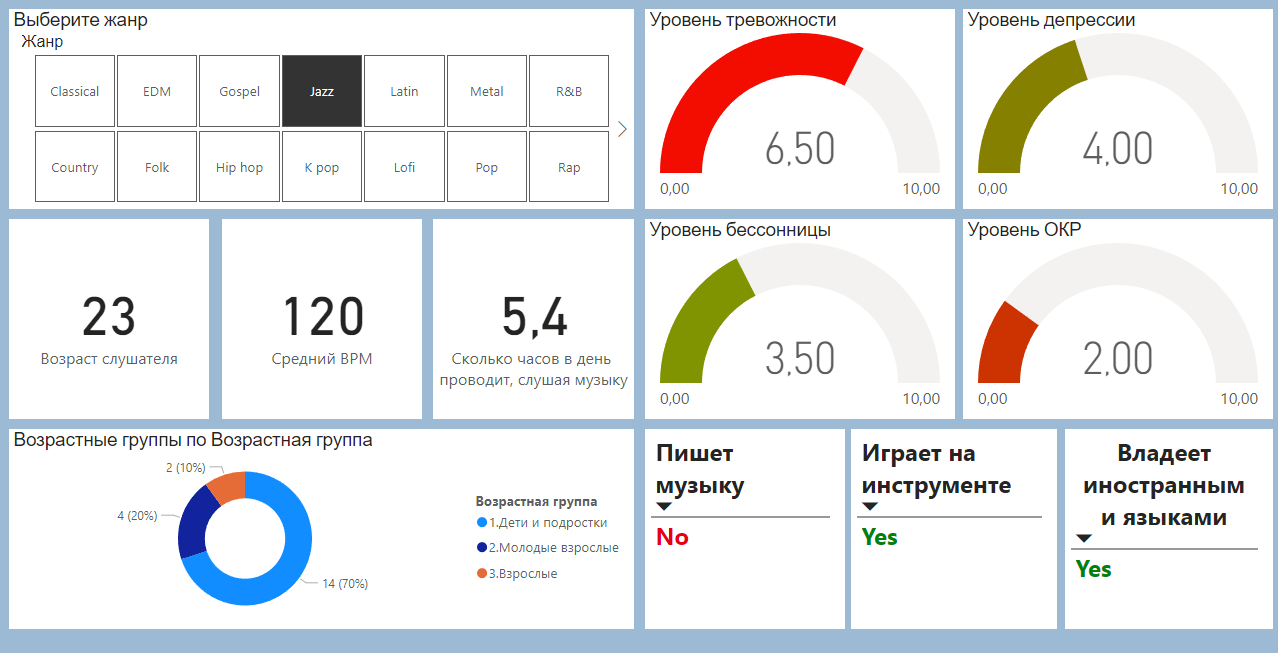

This screenshot's page, from the dashboard's own definition file:
{"tool":"powerbi","page":{"name":"Страница 4","canvas":[1280,720],"ordinal":1},"visuals":[{"type":"slicer","fields":{"Values":["mxmh_survey_results.Fav genre"]},"box":[0,1,640.5,179.8],"z":0},{"type":"gauge","fields":{"Y":["Avg(mxmh_survey_results.Depression)"]},"box":[960,0,320,180],"z":1000},{"type":"gauge","fields":{"Y":["Avg(mxmh_survey_results.Anxiety)"]},"box":[640,0,320,180],"z":2000},{"type":"gauge","fields":{"Y":["Avg(mxmh_survey_results.OCD)"]},"box":[960,181.2,320,180],"z":3000},{"type":"gauge","fields":{"Y":["Avg(mxmh_survey_results.Insomnia)"]},"box":[640,181.2,320,180],"z":4000},{"type":"card","fields":{"Values":["Avg(mxmh_survey_results.Age)"]},"box":[0,181.2,320,178.8],"z":5000},{"type":"tableEx","fields":{"Values":["mxmh_survey_results.Instrumentalist"]},"box":[639.5,360.6,209.9,180.8],"z":6000},{"type":"tableEx","fields":{"Values":["mxmh_survey_results.Composer"]},"box":[850.4,360.6,189.5,180.8],"z":7000},{"type":"tableEx","fields":{"Values":["mxmh_survey_results.Foreign languages"]},"box":[1039.9,360.6,240.1,180.8],"z":8000},{"type":"card","fields":{"Values":["Avg(mxmh_survey_results.BPM)"]},"box":[320,181.2,320,178.8],"z":9000},{"type":"donutChart","fields":{"Category":["mxmh_survey_results.Generation"],"Y":["CountNonNull(mxmh_survey_results.Timestamp)"]},"box":[0,361.5,640.5,179.8],"z":10000}]}

Visuals, with their boxes on the page's 1280x720 design canvas (x1, y1, x2, y2). These are canvas units, not pixel positions in the 1278x653 screenshot, which may show the page scaled, cropped or inside an application window:
slicer - mxmh_survey_results.Fav genre: bbox(0, 1, 640, 181)
gauge - Avg(mxmh_survey_results.Depression): bbox(960, 0, 1280, 180)
gauge - Avg(mxmh_survey_results.Anxiety): bbox(640, 0, 960, 180)
gauge - Avg(mxmh_survey_results.OCD): bbox(960, 181, 1280, 361)
gauge - Avg(mxmh_survey_results.Insomnia): bbox(640, 181, 960, 361)
card - Avg(mxmh_survey_results.Age): bbox(0, 181, 320, 360)
tableEx - mxmh_survey_results.Instrumentalist: bbox(640, 361, 849, 541)
tableEx - mxmh_survey_results.Composer: bbox(850, 361, 1040, 541)
tableEx - mxmh_survey_results.Foreign languages: bbox(1040, 361, 1280, 541)
card - Avg(mxmh_survey_results.BPM): bbox(320, 181, 640, 360)
donutChart - mxmh_survey_results.Generation x CountNonNull(mxmh_survey_results.Timestamp): bbox(0, 362, 640, 541)
